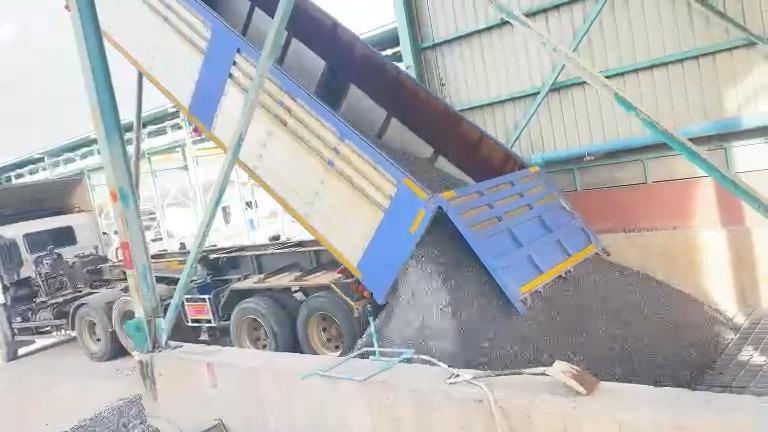gravel: (376, 216, 734, 387), (386, 147, 467, 191), (65, 394, 159, 431)
